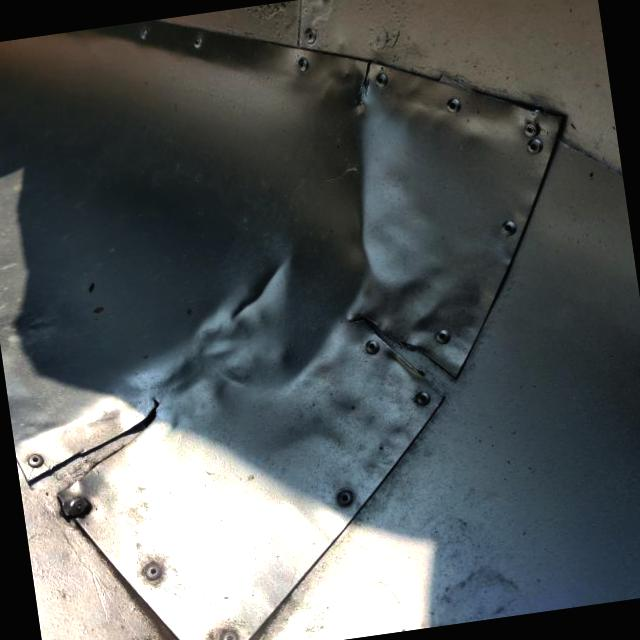crack: (9, 383, 181, 517), (332, 281, 474, 427), (331, 50, 394, 122)
dent: (72, 47, 458, 426)
